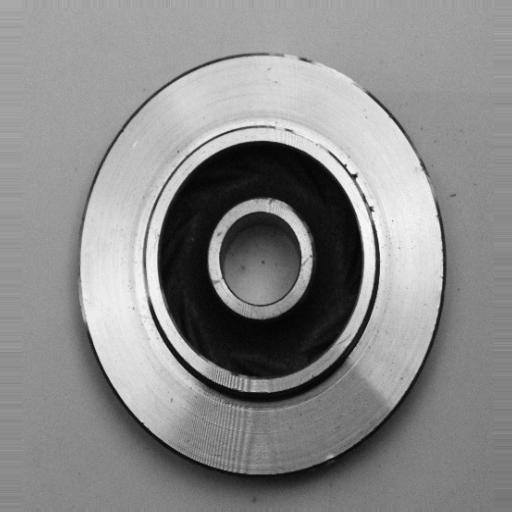crack: (360, 194, 387, 224), (343, 162, 367, 187)
scratch: (259, 116, 337, 162)
unpolished_casting: (74, 50, 449, 479)
